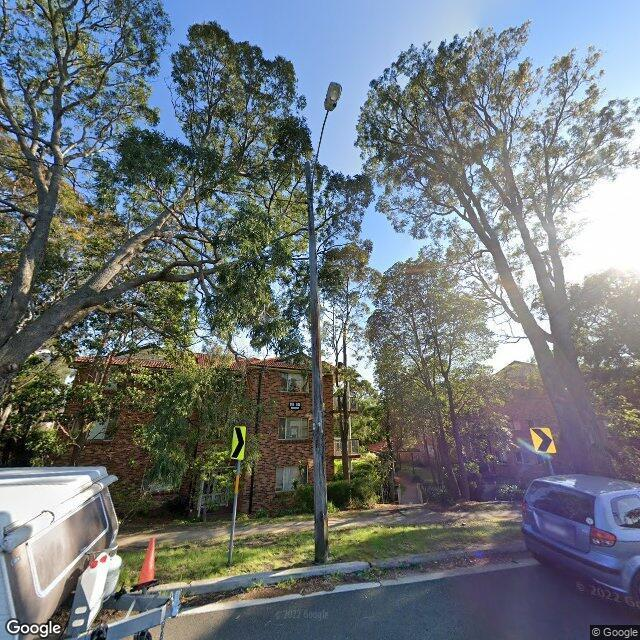streetlight: (310, 80, 342, 192)
timber-pole: (304, 160, 328, 562)
